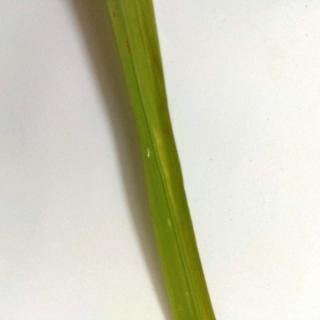bercak-Cokelat: (122, 32, 138, 58)
